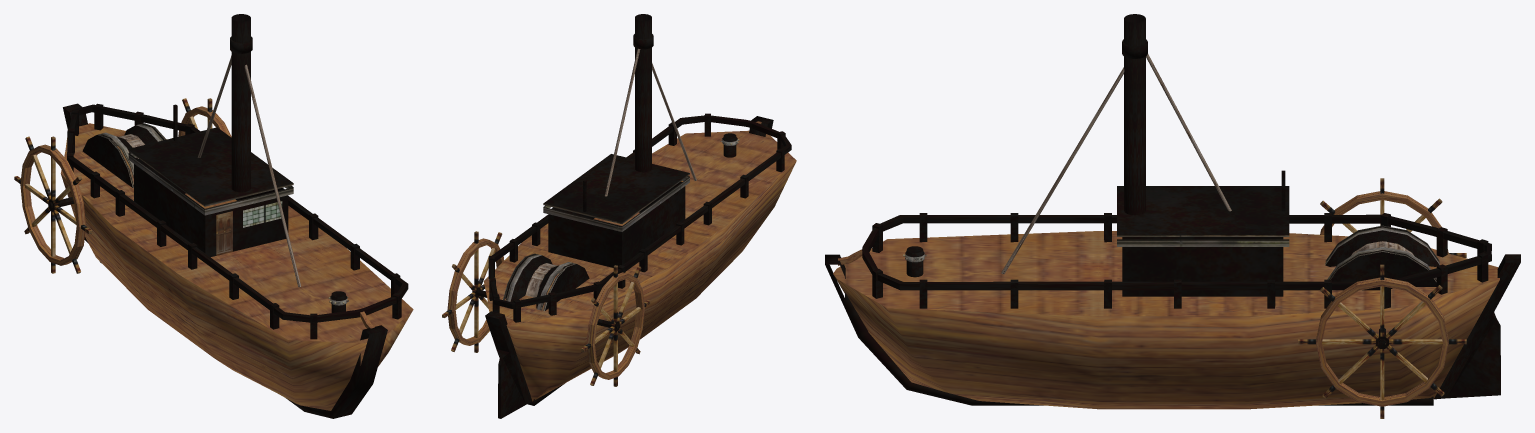
The model's file is steam_boat.dae.
The picture shows the model from 3 angles, left to right: view 1: azimuth 30°, elevation 25°; view 2: azimuth 150°, elevation 25°; view 3: azimuth 270°, elevation 25°; orthographic projection. The views are drawn at different scales.
Visible parts, largest first — view 1: steamer; view 2: steamer; view 3: steamer.
Part boxes in pixels (<box>): steamer: <box>14,14,413,418</box>; steamer: <box>442,14,796,418</box>; steamer: <box>825,14,1520,418</box>.
Bounding box in the file's own units: 19.53 × 63.74 × 38.59.
